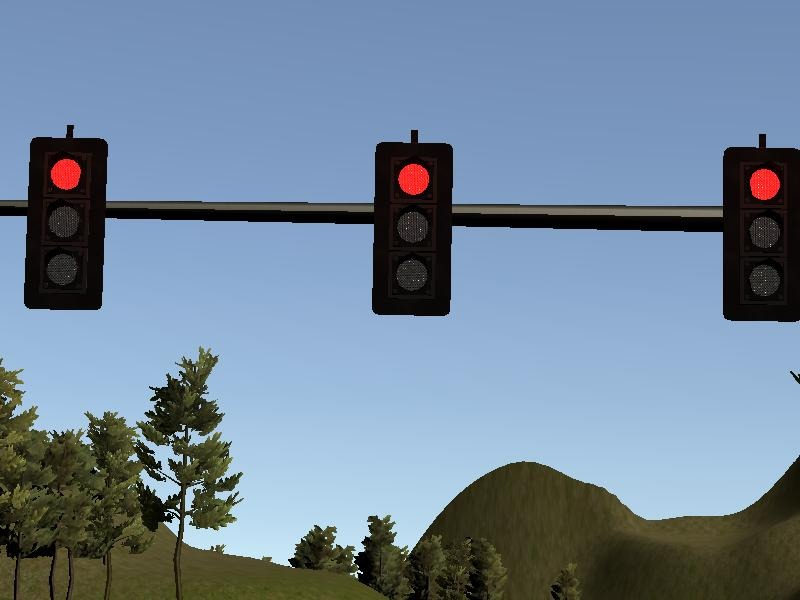red: (26, 137, 108, 311), (718, 148, 800, 322), (372, 143, 454, 317)
